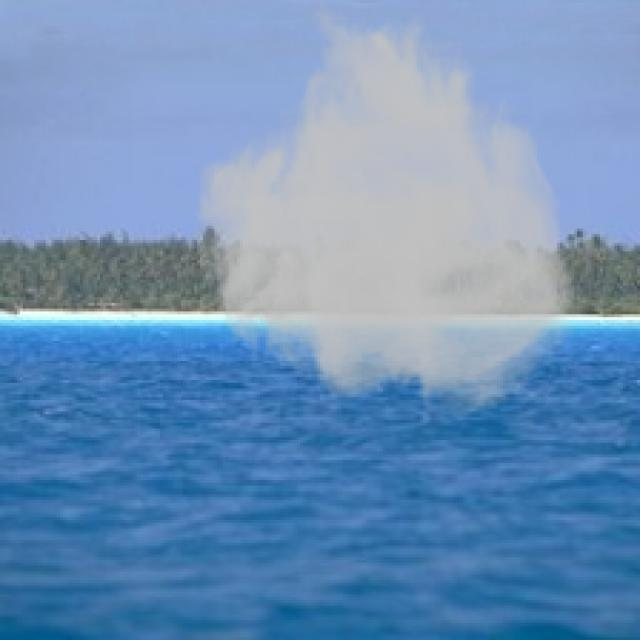smoke: (191, 0, 580, 420)
